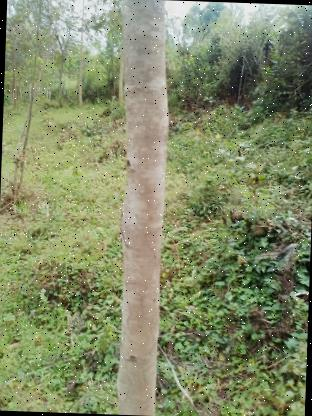tree: (101, 0, 182, 416)
